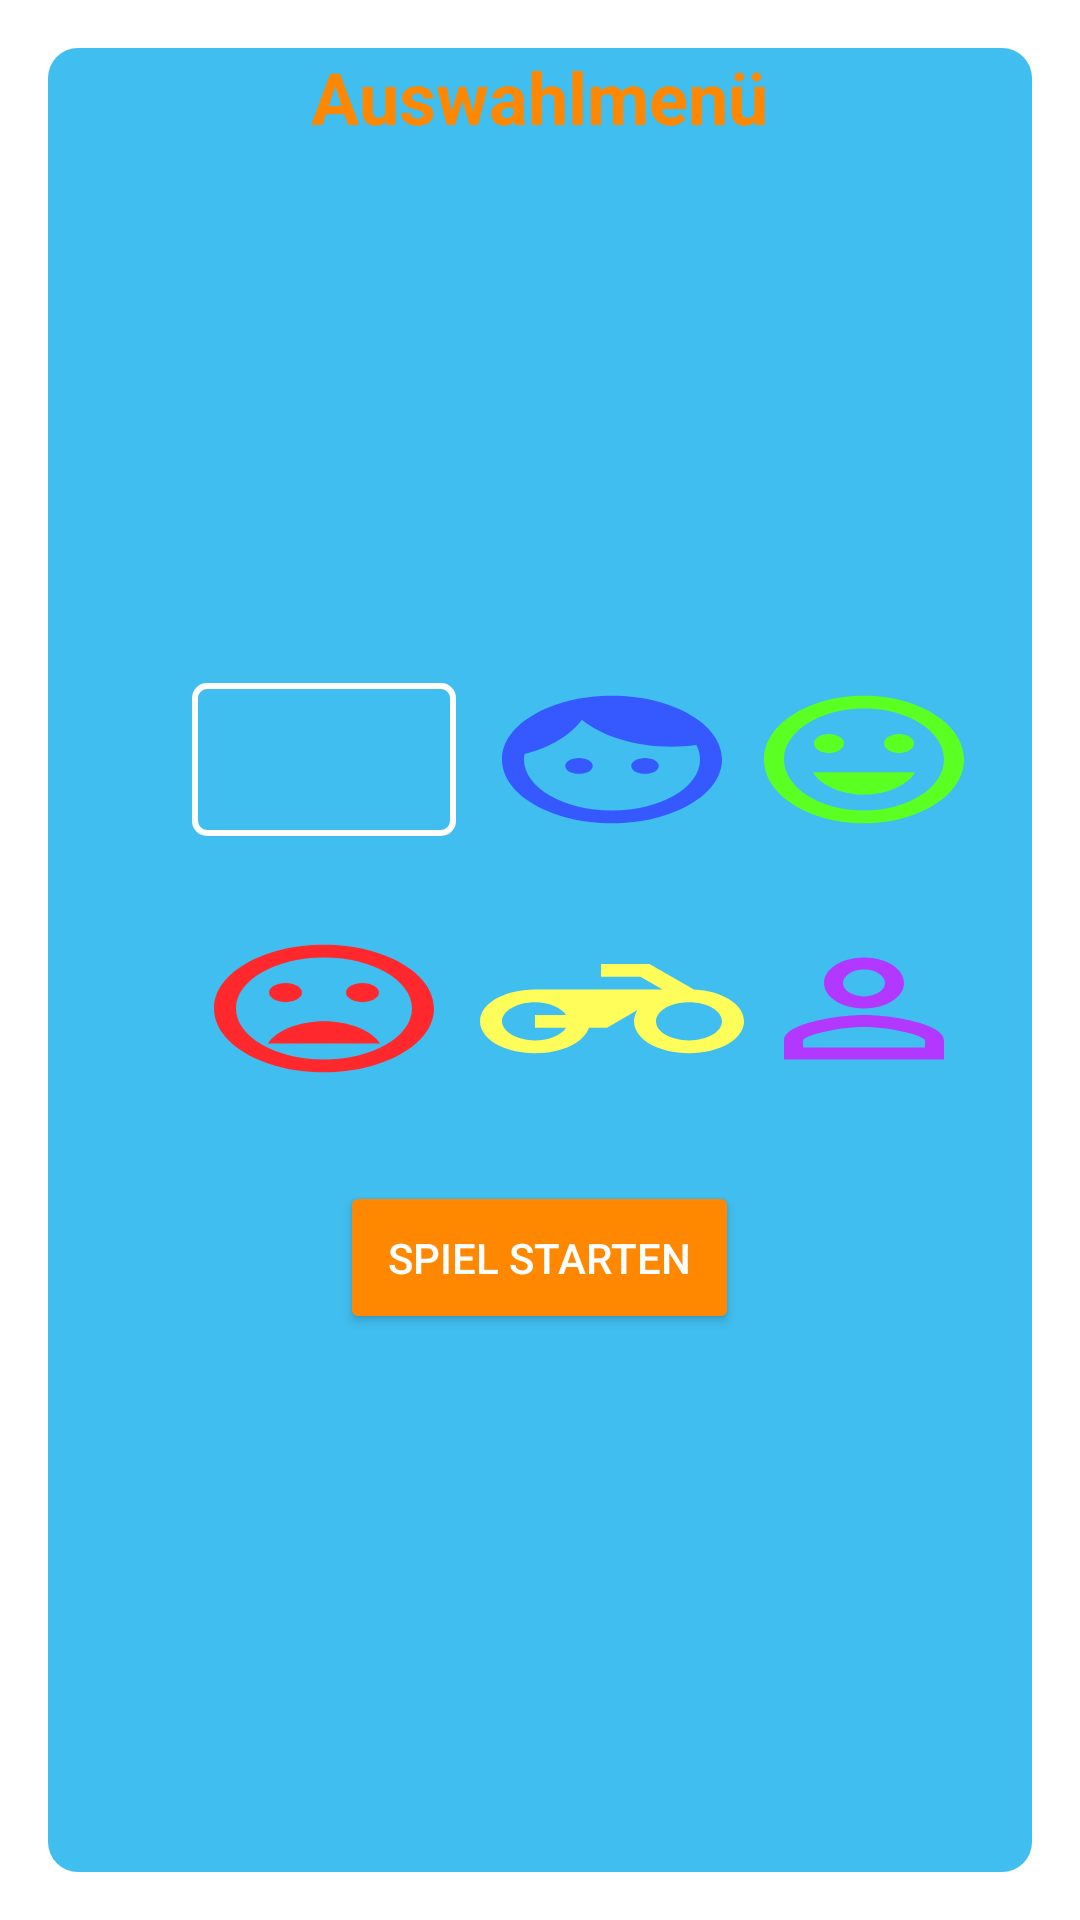

Where icons sit on this 1080 x 1920 app screen, as bbox(x1, y1, x2, y2):
character four: bbox(214, 944, 434, 1073)
character three: bbox(764, 695, 964, 824)
character two: bbox(502, 695, 722, 824)
